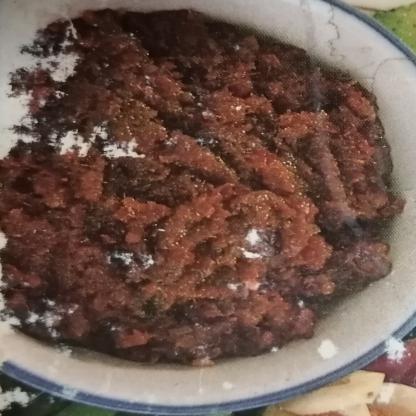Namprig: (0, 11, 393, 404)
